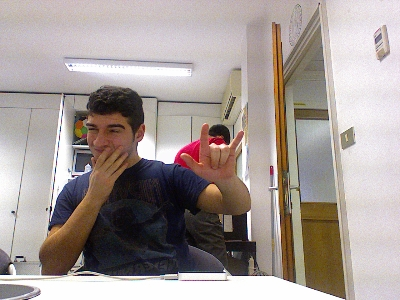我爱你: (178, 122, 244, 183)
